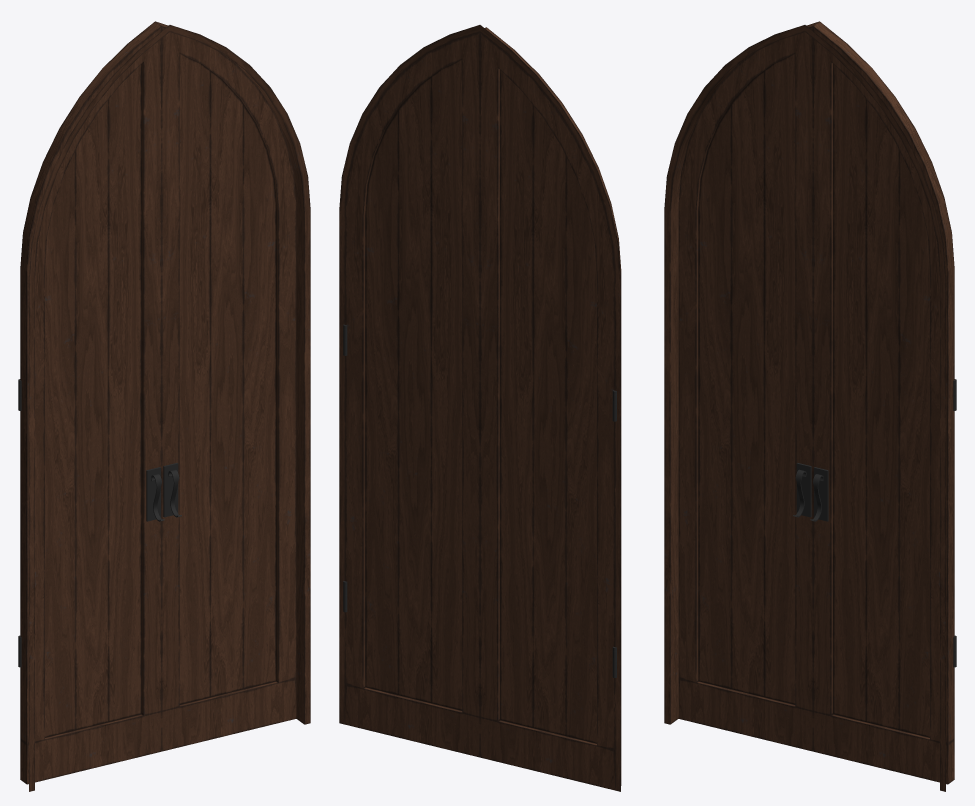
File: Door_H_Frame.fbx
3 renders of one model, left to right at view 1: azimuth 30°, elevation 25°; view 2: azimuth 150°, elevation 25°; view 3: azimuth 330°, elevation 25°, orthographic.
Parts seen in each view (by area): view 1: Door_H_B, Door_H_A, Door_H_Frame; view 2: Door_H_B, Door_H_A, Door_H_Frame; view 3: Door_H_A, Door_H_B, Door_H_Frame.
Part boxes in pixels (left/top/right/bottom): Door_H_B: left=18, top=21, right=164, bottom=784; Door_H_A: left=156, top=21, right=296, bottom=751; Door_H_Frame: left=29, top=25, right=310, bottom=791; Door_H_B: left=480, top=27, right=621, bottom=790; Door_H_A: left=343, top=27, right=485, bottom=757; Door_H_Frame: left=339, top=25, right=620, bottom=791; Door_H_A: left=810, top=21, right=956, bottom=784; Door_H_B: left=678, top=21, right=818, bottom=751; Door_H_Frame: left=664, top=25, right=945, bottom=791.
Size of the model in its own units: 2.15 by 0.2304 by 5.34.
